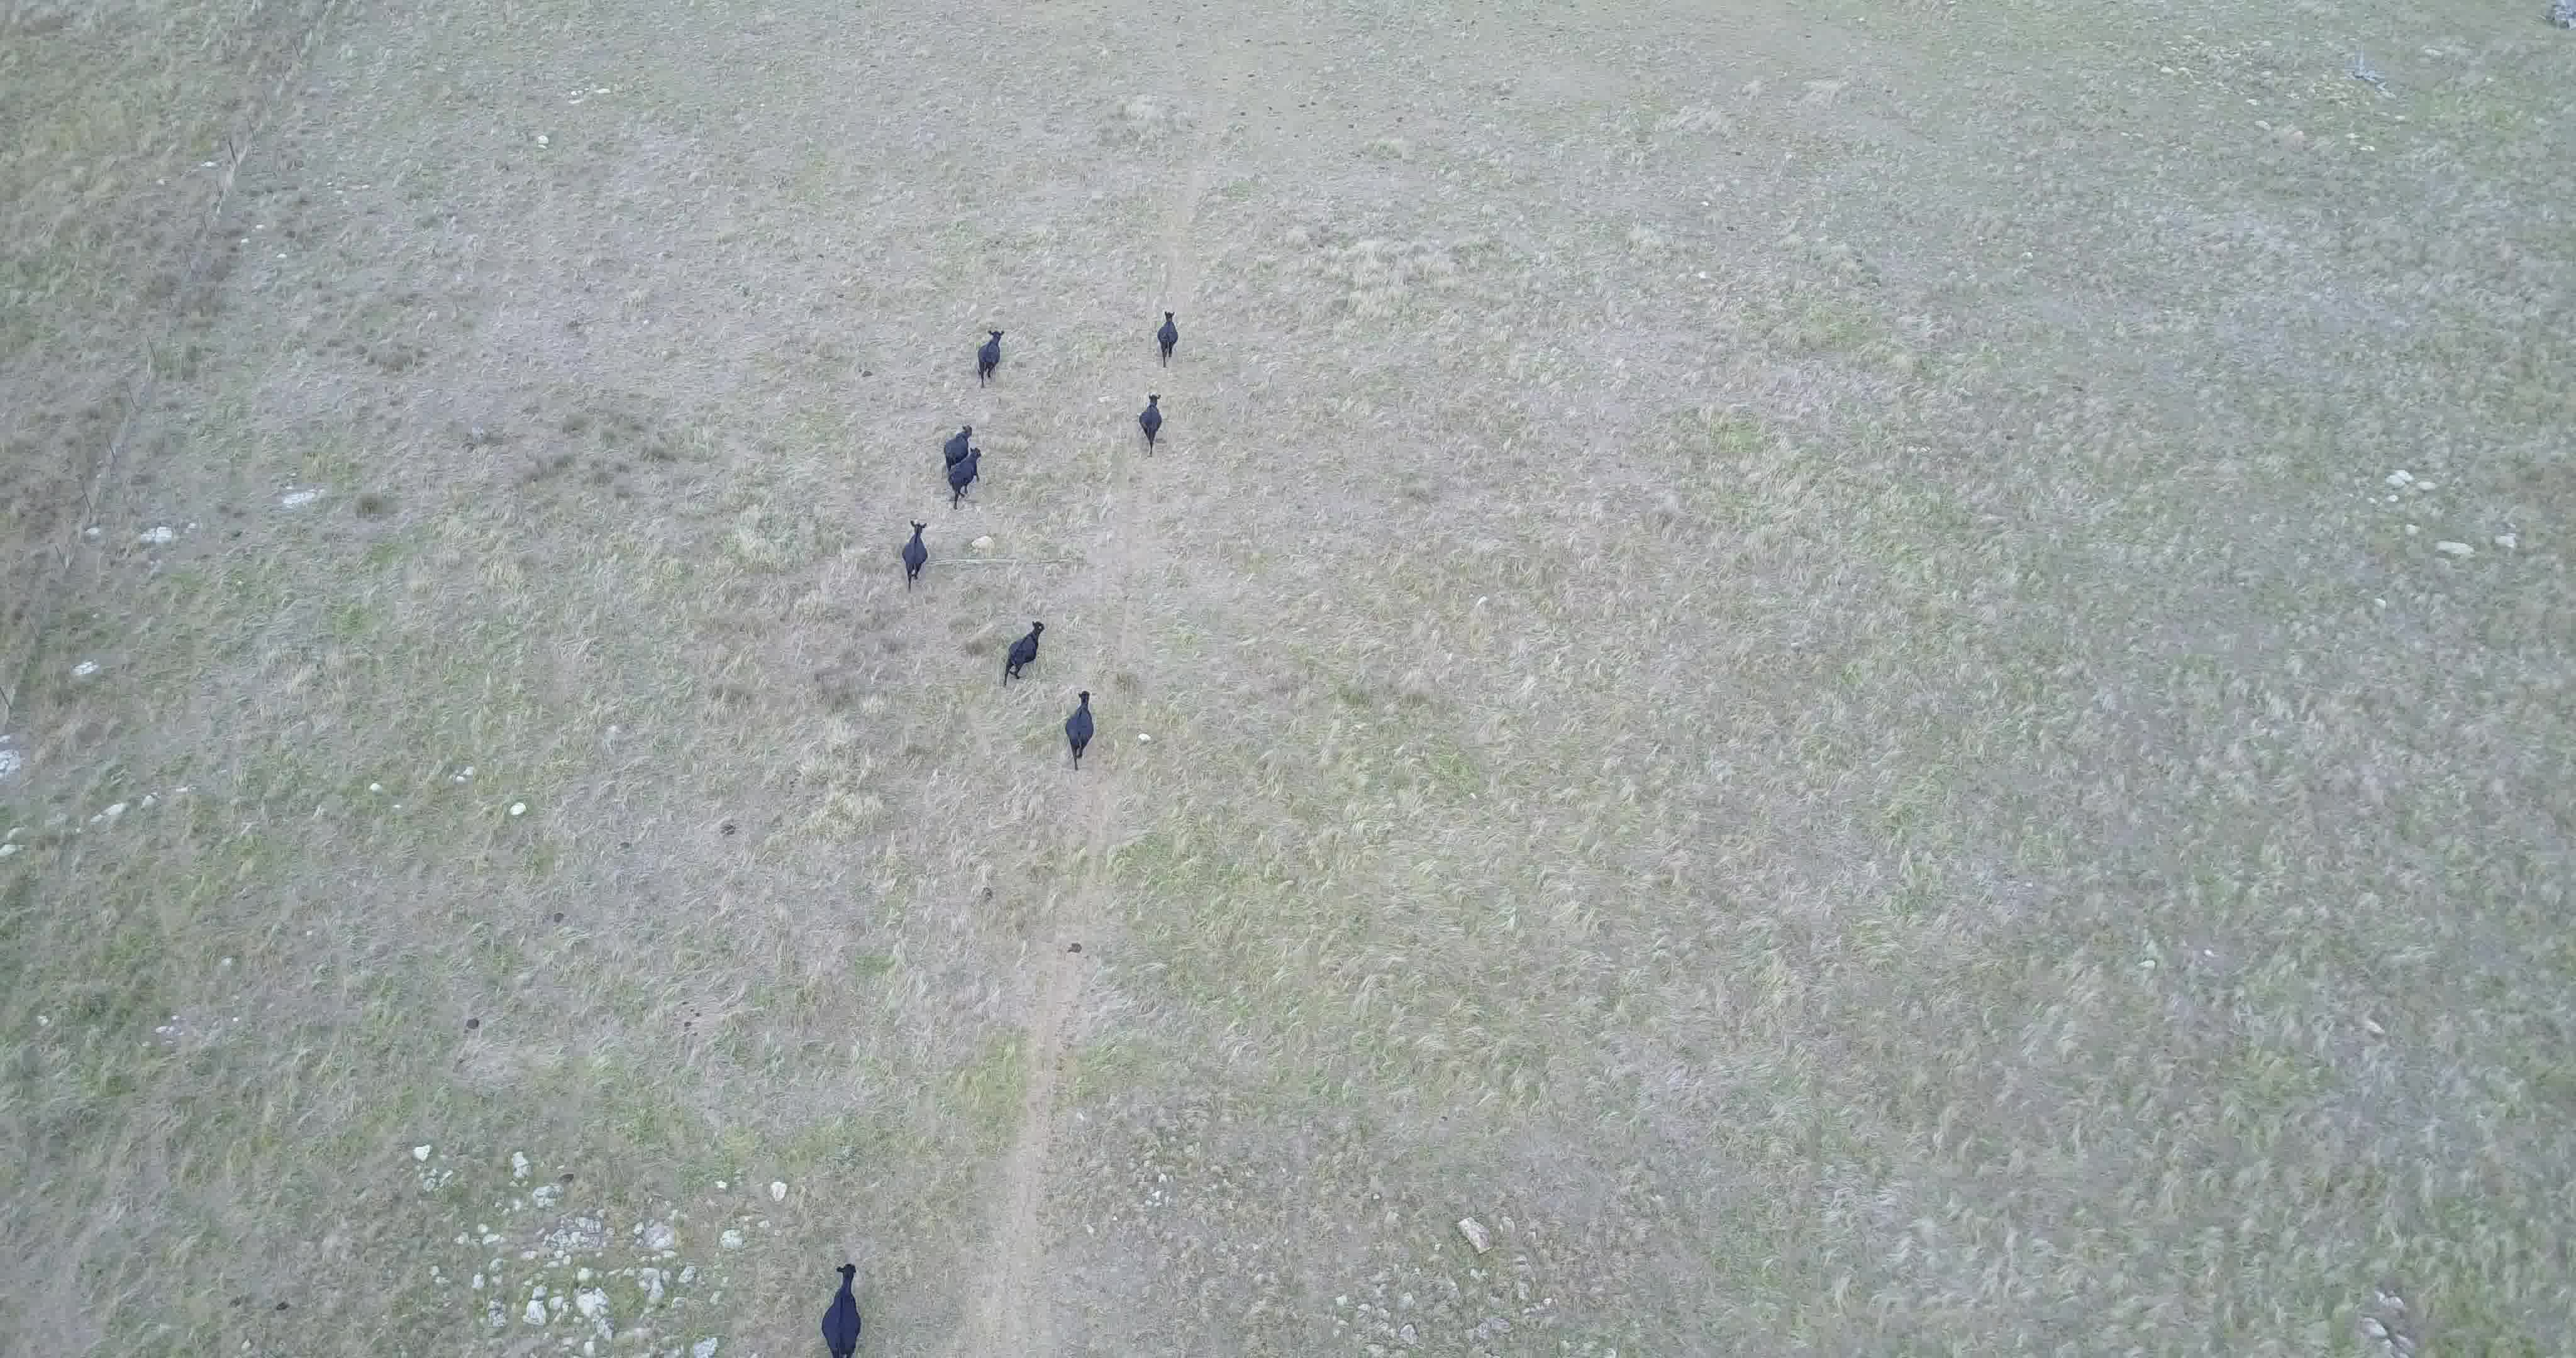cattle: (814, 1256, 867, 1358), (1003, 619, 1046, 699), (1061, 687, 1095, 775), (944, 448, 981, 516), (900, 516, 929, 593), (1136, 388, 1165, 458), (976, 329, 1007, 388), (1155, 308, 1181, 370), (942, 423, 971, 472)
